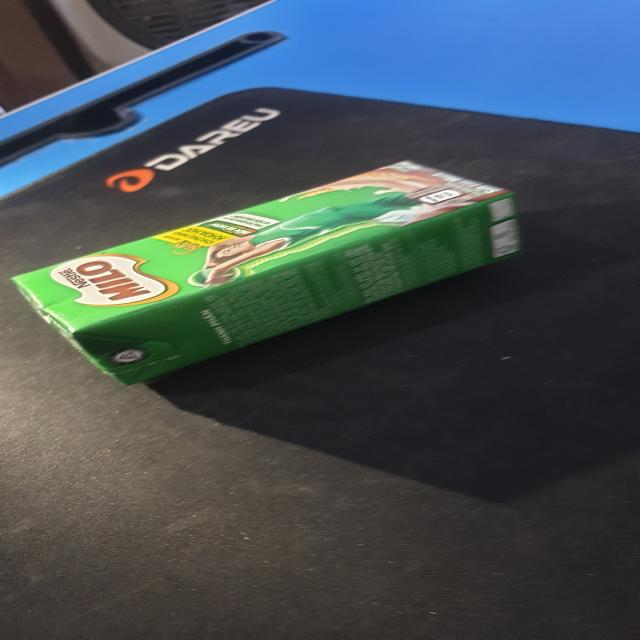Milo: (9, 159, 531, 392)
